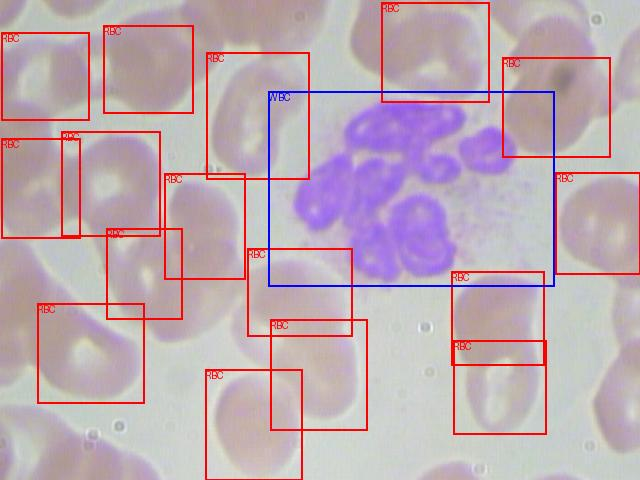RBC: (206, 52, 309, 179), (502, 57, 610, 157), (381, 2, 489, 102), (205, 369, 302, 480), (270, 319, 367, 430), (37, 303, 144, 403), (61, 131, 160, 236), (247, 248, 352, 336), (451, 271, 544, 365), (453, 340, 546, 434), (555, 172, 640, 274), (164, 173, 245, 279), (103, 25, 193, 113), (1, 138, 80, 238), (1, 32, 89, 120), (106, 228, 182, 319)
WBC: (268, 91, 554, 286)
